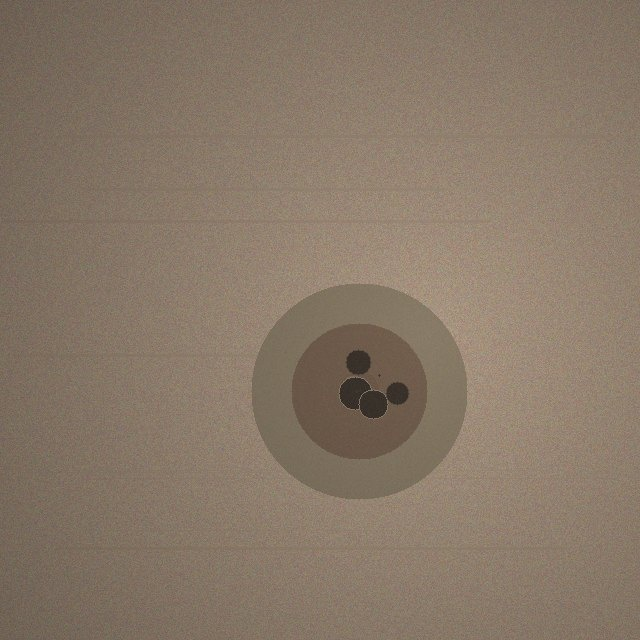shrinkage: (251, 283, 467, 499)
